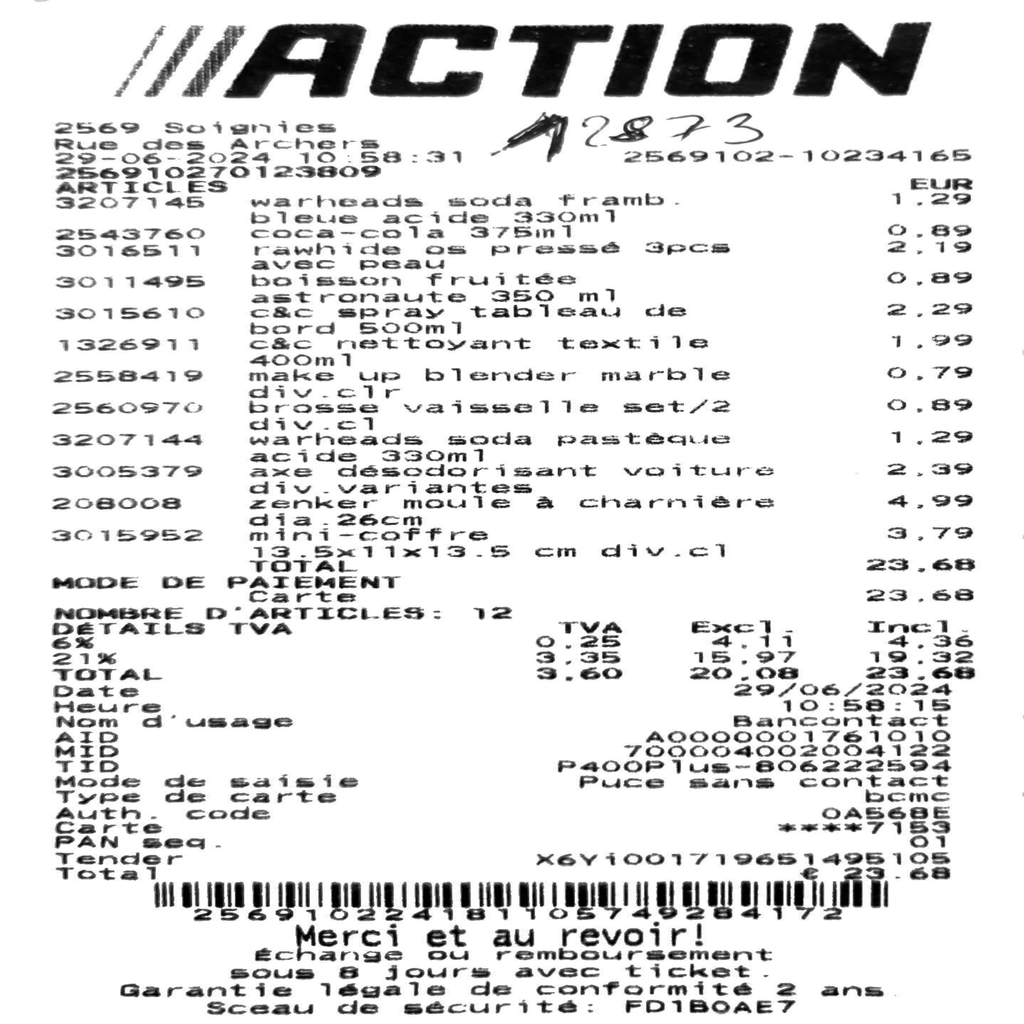recipt: (0, 8, 1016, 1020)
